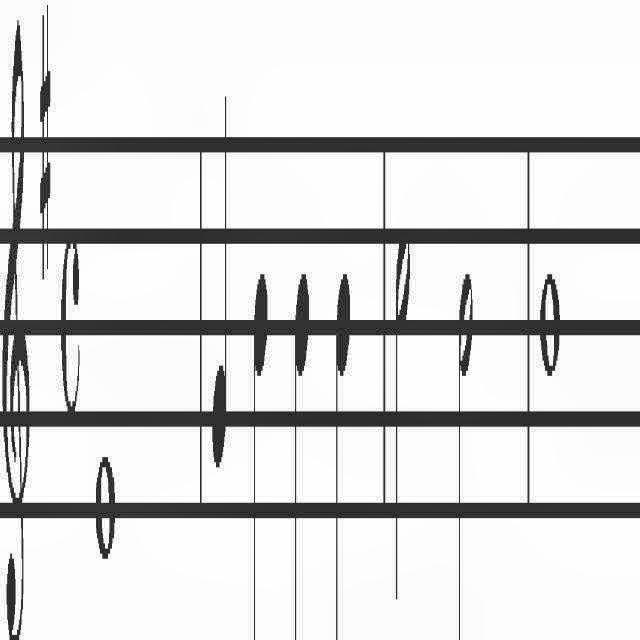Bass-clef: (1, 15, 30, 640)
Diez: (38, 0, 51, 288)
Full-note: (539, 262, 561, 386), (95, 446, 116, 566)
Half-note: (394, 220, 412, 612), (458, 248, 474, 640)
Quarter-note: (211, 72, 229, 476), (250, 244, 268, 640), (293, 264, 311, 640), (334, 268, 351, 640)
